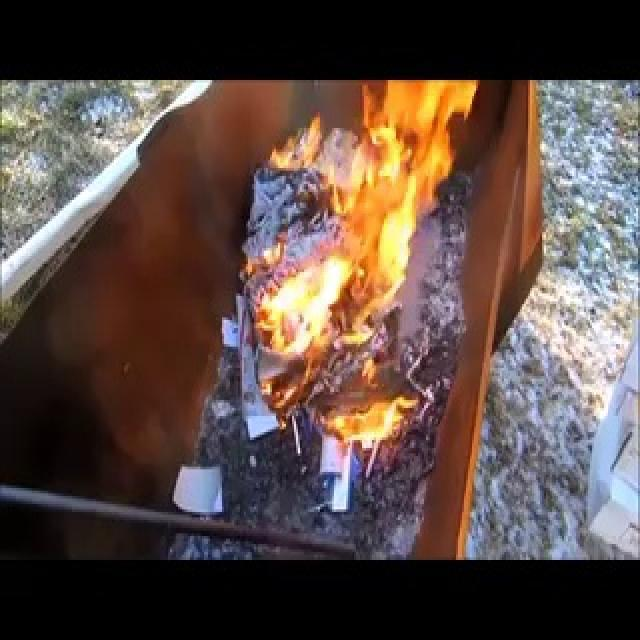fire: (226, 80, 440, 448)
